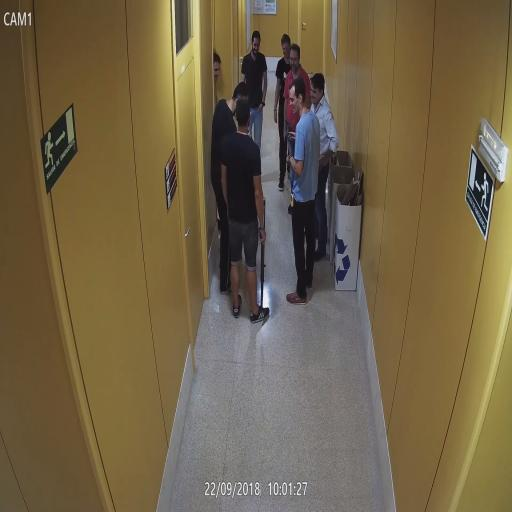Handgun: (284, 117, 292, 136)
